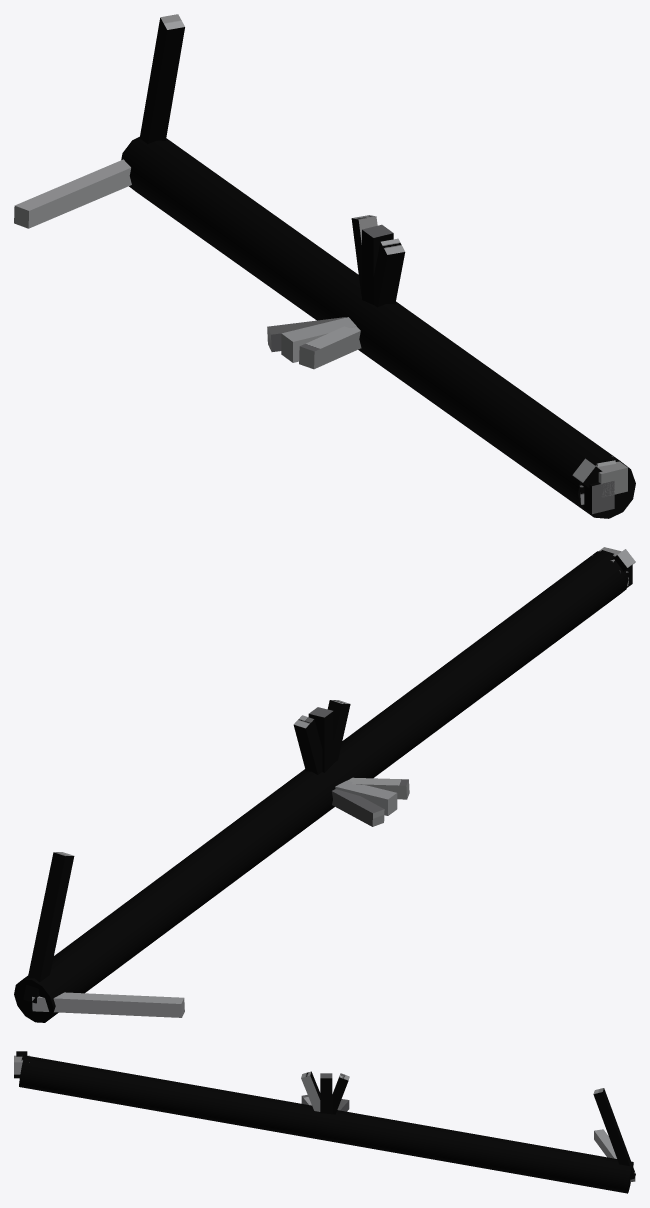
3 views of the same model, one above another, from view 1: azimuth 30°, elevation 25°; view 2: azimuth 150°, elevation 25°; view 3: azimuth 270°, elevation 25° (orthographic). The views are drawn at different scales.
Bounding box in the file's own units: 0.4572 × 0.4572 × 2.5.
